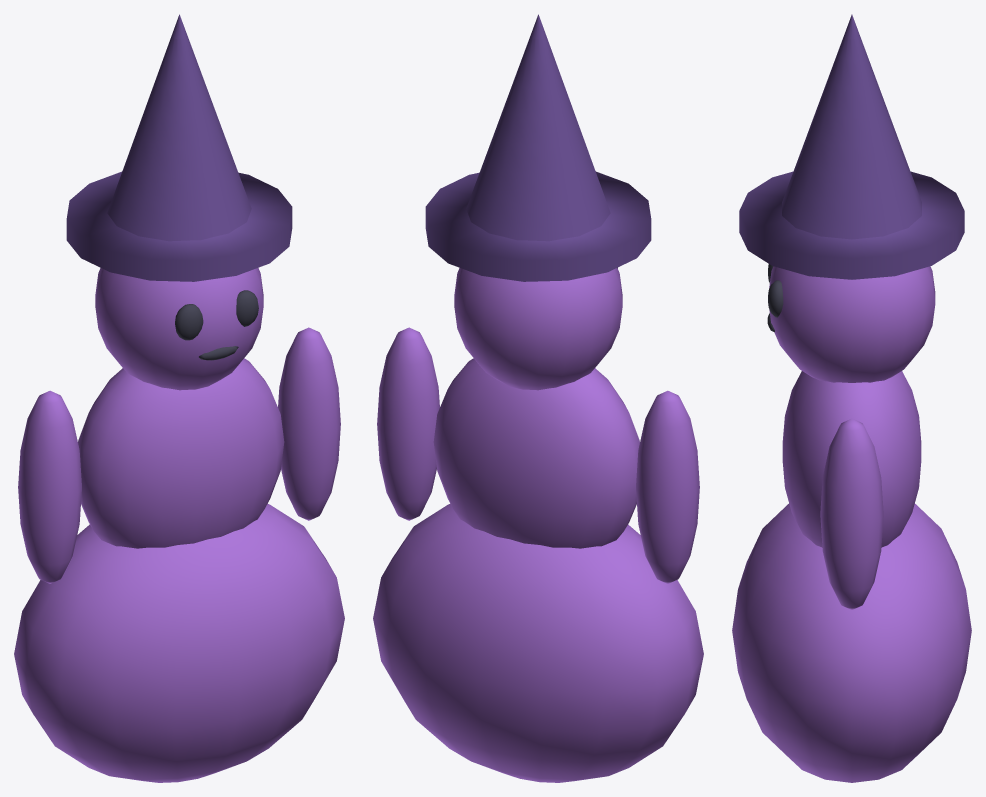
File: wizard.glb
3 renders of one model, left to right at view 1: azimuth 30°, elevation 25°; view 2: azimuth 150°, elevation 25°; view 3: azimuth 270°, elevation 25°, orthographic.
Parts seen in each view (by area): view 1: Robe, Torso, HatCone, Head, HatBrim, ArmLeft, ArmRight, EyeLeft, EyeRight; view 2: Robe, Torso, HatCone, Head, HatBrim, ArmLeft, ArmRight; view 3: Robe, HatCone, Head, Torso, HatBrim, ArmRight, EyeRight.
Part boxes in pixels (x1,y1,x2,y2): Robe: (14, 504, 344, 782); Torso: (78, 358, 284, 548); HatCone: (107, 14, 251, 241); Head: (95, 268, 263, 390); HatBrim: (66, 171, 292, 281); ArmLeft: (18, 390, 81, 583); ArmRight: (278, 327, 340, 520); EyeLeft: (175, 304, 203, 340); EyeRight: (236, 290, 258, 326); Robe: (373, 504, 703, 782); Torso: (433, 358, 639, 548); HatCone: (466, 14, 610, 241); Head: (454, 268, 622, 390); HatBrim: (425, 171, 651, 281); ArmLeft: (636, 390, 699, 583); ArmRight: (377, 327, 439, 520); Robe: (732, 503, 971, 782); HatCone: (782, 14, 921, 239); Head: (769, 266, 935, 382); Torso: (782, 371, 921, 547); HatBrim: (739, 171, 964, 279); ArmRight: (820, 418, 883, 609); EyeRight: (768, 280, 783, 317).
Bounding box in the file's own units: 1.02 × 2.35 × 0.68.
